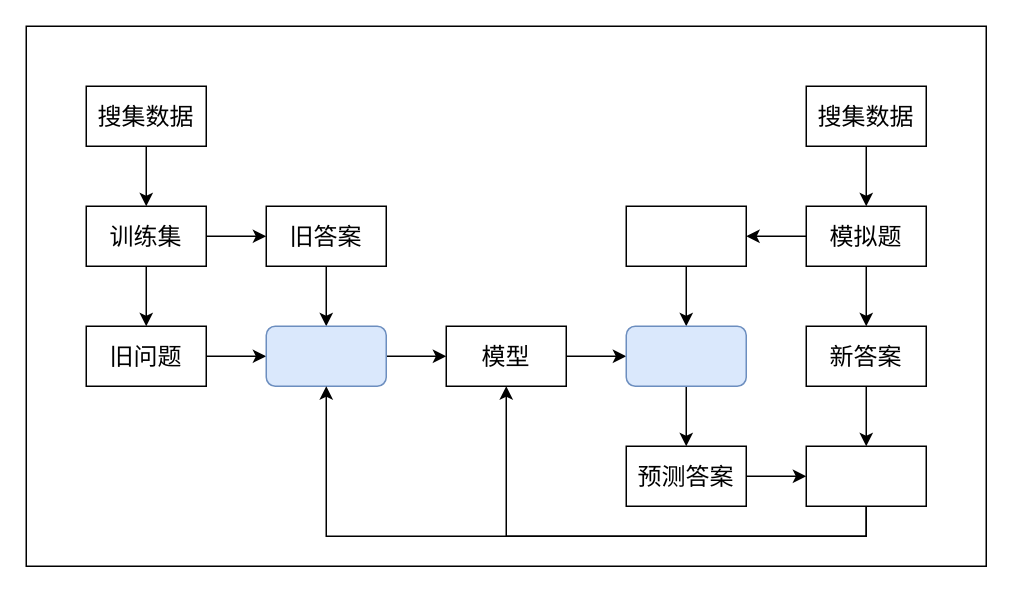
Some shapes in this 1013 by 593 pixel diagram are drawn without their labels. Each missing label, with the centre of its shape:
"新问题" belongs at point 685,235.
"训练" belongs at point 325,355.
"评估" belongs at point 865,475.
"预测" belongs at point 685,355.
